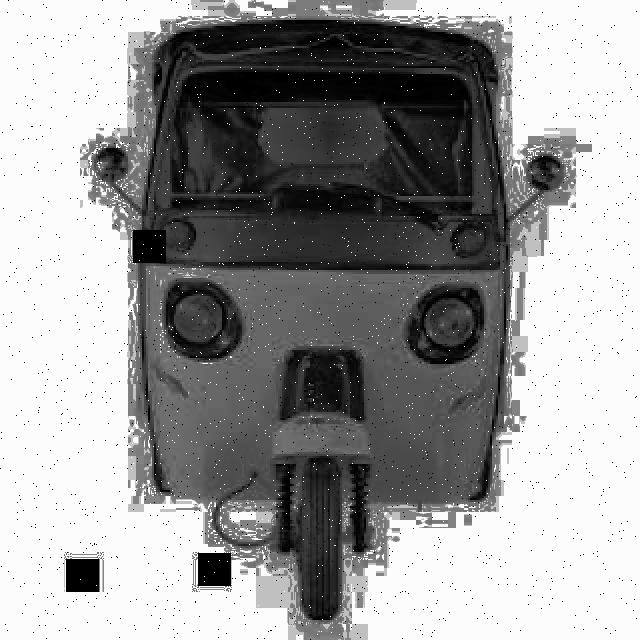Auto-Rickshaw: (114, 18, 530, 632)
